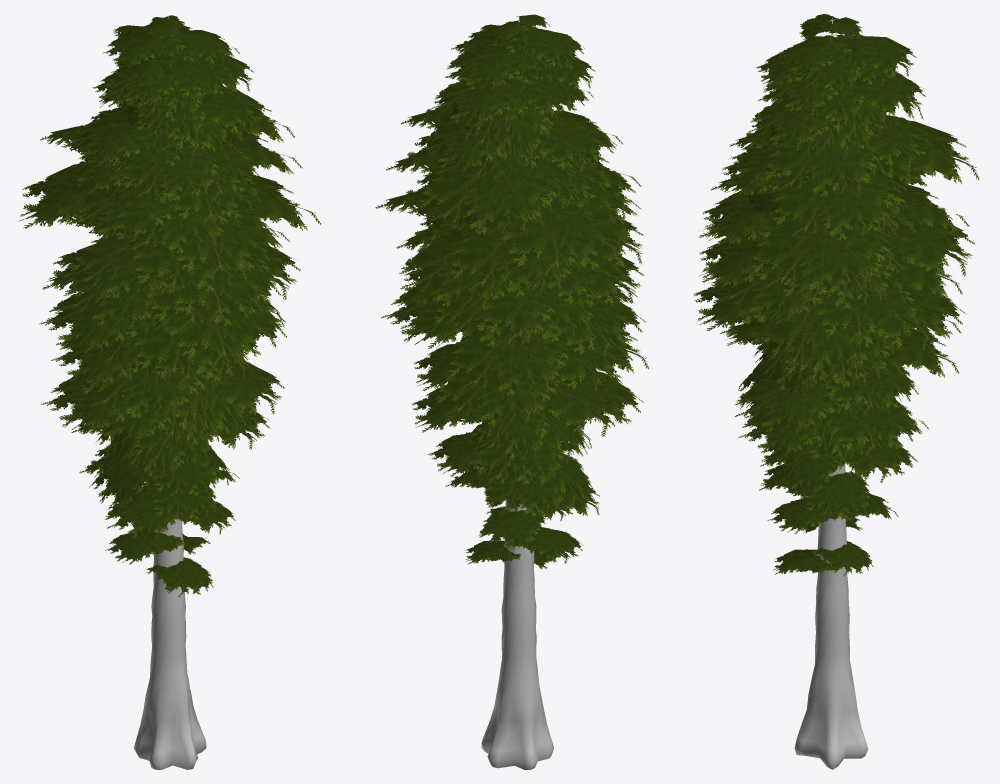
Rendered from TreeBig001.fbx.
The picture shows the model from 3 angles, left to right: view 1: azimuth 30°, elevation 25°; view 2: azimuth 150°, elevation 25°; view 3: azimuth 270°, elevation 25°; orthographic projection.
Visible parts, largest first — view 1: TreeBig001_LOD0; view 2: TreeBig001_LOD0; view 3: TreeBig001_LOD0.
Part boxes in pixels (<box>): TreeBig001_LOD0: <box>18,15,321,769</box>; TreeBig001_LOD0: <box>375,14,648,769</box>; TreeBig001_LOD0: <box>693,14,979,769</box>.
Bounding box in the file's own units: 1546 × 3996 × 1474.
